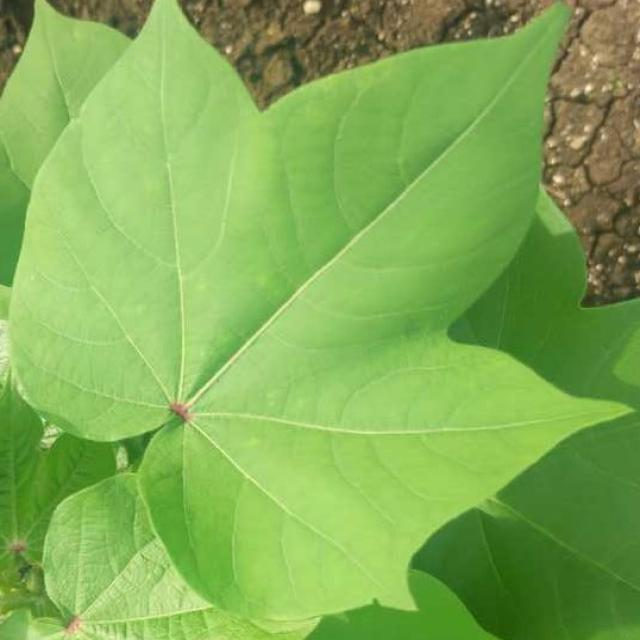Healthy Leaf: (16, 14, 546, 640)
